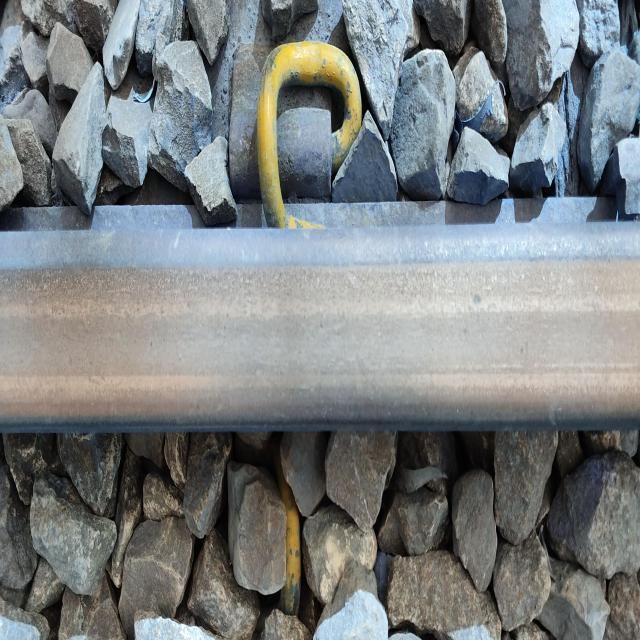Good Fasteners: (215, 22, 368, 248), (276, 454, 301, 615)
